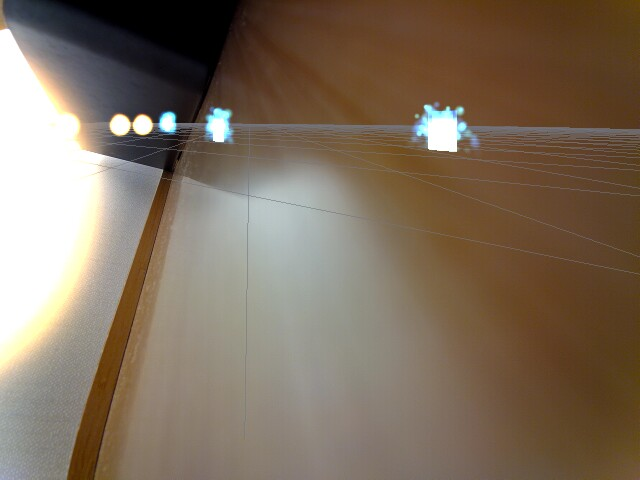firebig: (0, 37, 91, 374)
